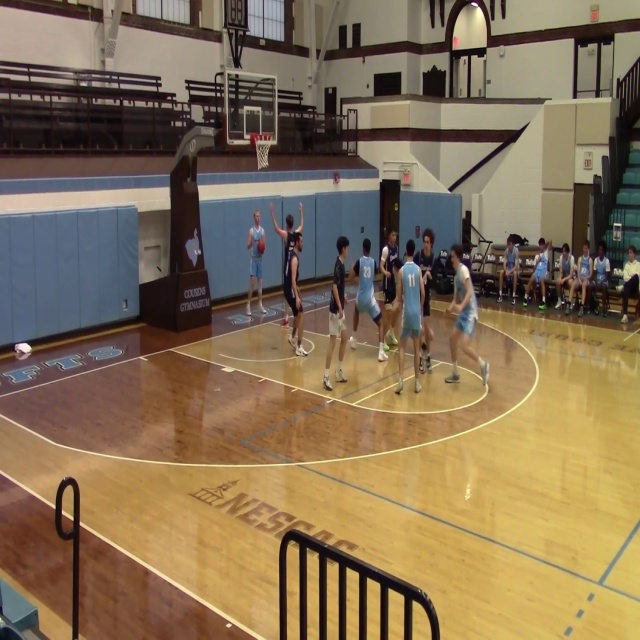Basketball: (257, 241, 265, 253)
